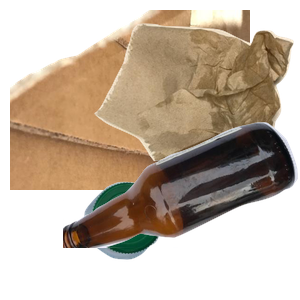cardboard: (10, 10, 250, 190)
glass: (63, 120, 300, 300)
plastic: (81, 179, 239, 300)
trash: (92, 21, 300, 201)
